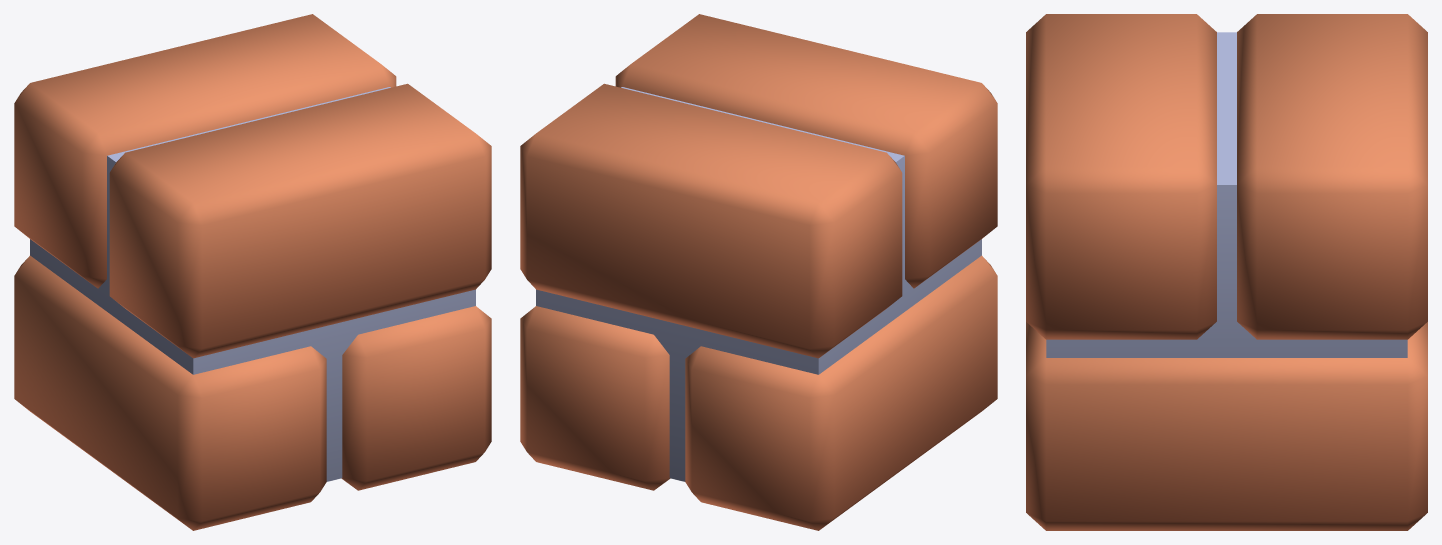
Rendered from platformer_brick.glb.
3 views of the same model, side by side, from view 1: azimuth 30°, elevation 25°; view 2: azimuth 150°, elevation 25°; view 3: azimuth 270°, elevation 25° (orthographic). The views are drawn at different scales.
Parts seen in each view (by area): view 1: brick; view 2: brick; view 3: brick.
Boxes of the visible parts, left/top/right/bottom form: brick: left=14, top=14, right=491, bottom=530; brick: left=520, top=14, right=997, bottom=530; brick: left=1026, top=14, right=1427, bottom=530.
Size of the model in its own units: 1 by 1 by 1.
Materials: 1 (1 with a texture image).
